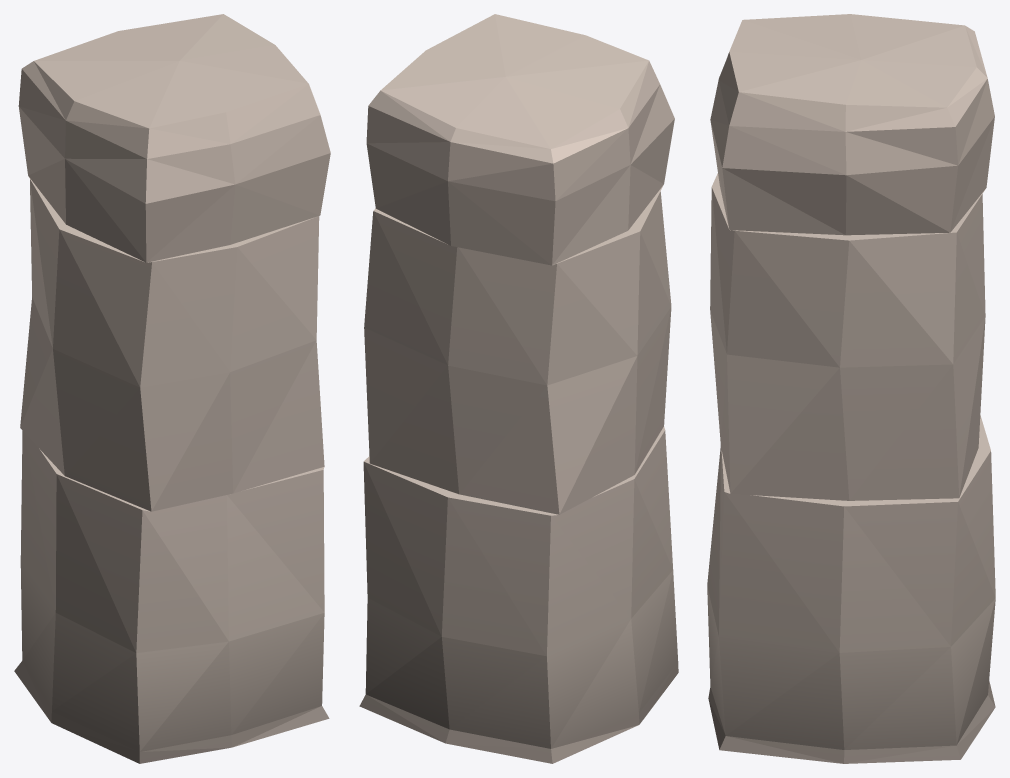
Rendered from RockZ_City_Pillar_D.fbx.
3 renders of one model, left to right at view 1: azimuth 30°, elevation 25°; view 2: azimuth 150°, elevation 25°; view 3: azimuth 270°, elevation 25°, orthographic. The views are drawn at different scales.
Parts seen in each view (by area): view 1: RockZ_City_Pillar_D; view 2: RockZ_City_Pillar_D; view 3: RockZ_City_Pillar_D.
Part boxes in pixels (<box>): RockZ_City_Pillar_D: <box>14,14,330,763</box>; RockZ_City_Pillar_D: <box>359,14,678,763</box>; RockZ_City_Pillar_D: <box>707,14,995,763</box>.
Bounding box in the file's own units: 2.6 × 6.5 × 2.61.
